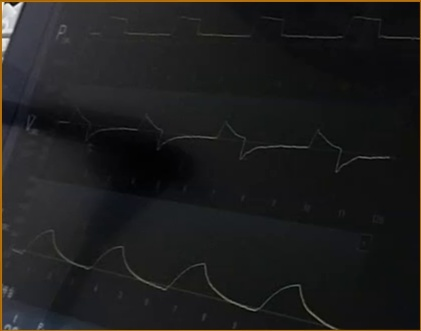Normal Flow: (54, 96, 395, 175)
Normal Volume: (12, 223, 343, 331)
